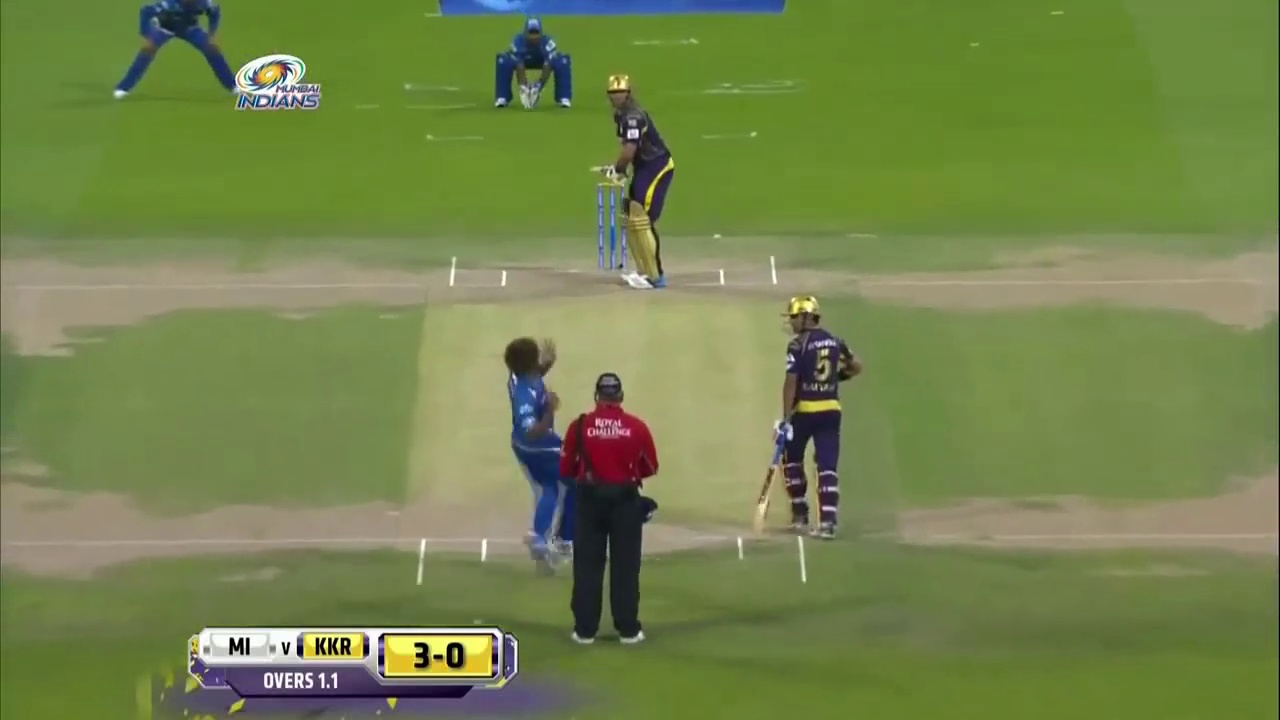bat: (748, 446, 785, 531)
